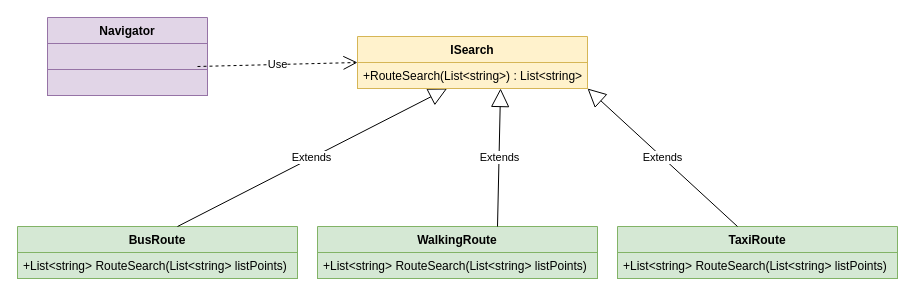
Image size: 915x299. Some labels were removed from this diagram. The centre of each missing label's shape, as x and y in pixels:
+ AssignRoute() : string: the point at 127,82
+ Search : ISearch: the point at 127,56
